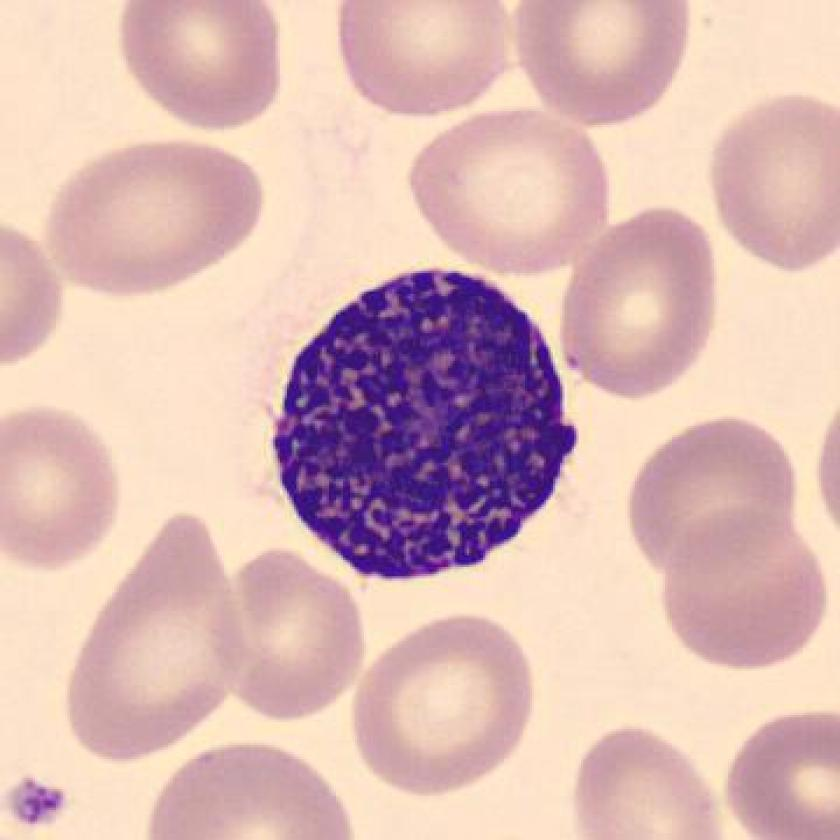basophil: (260, 258, 587, 591)
